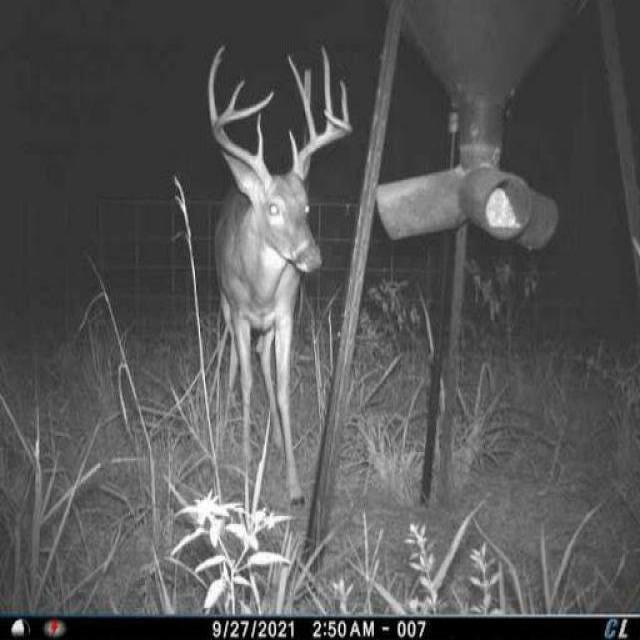deer: (202, 28, 362, 544)
